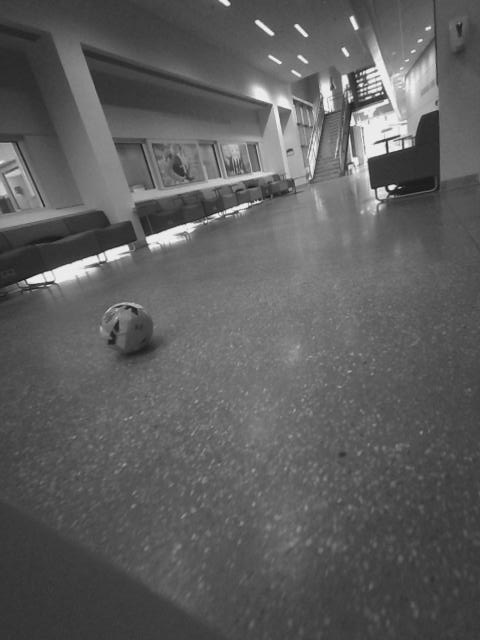ball: (95, 301, 158, 359)
